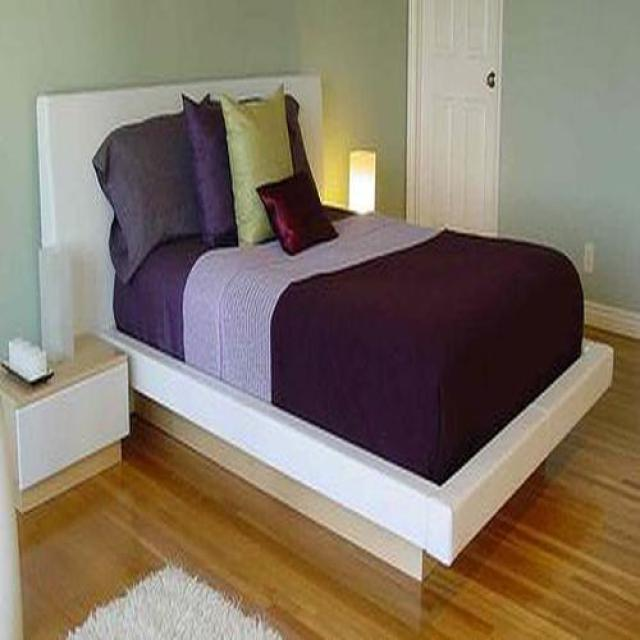bed: (38, 79, 613, 580)
